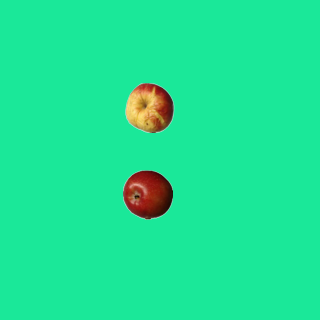Apple Braeburn: (122, 169, 172, 219)
Apple Red Yellow 1: (124, 82, 174, 132)
